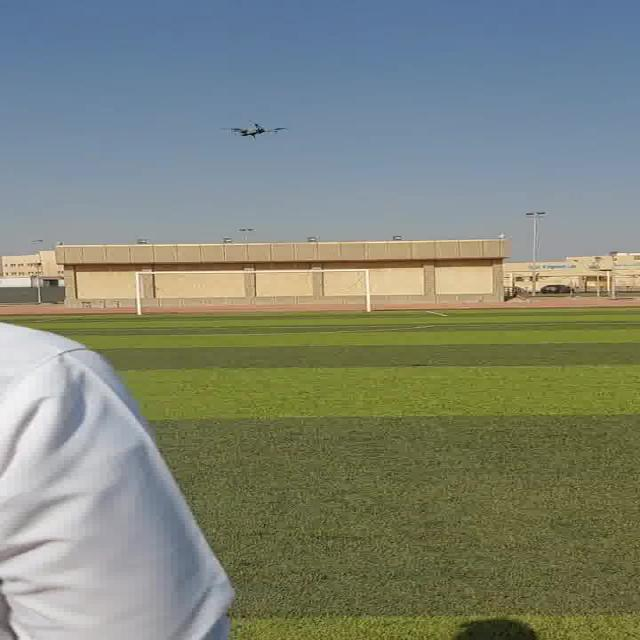drone: (217, 116, 286, 140)
